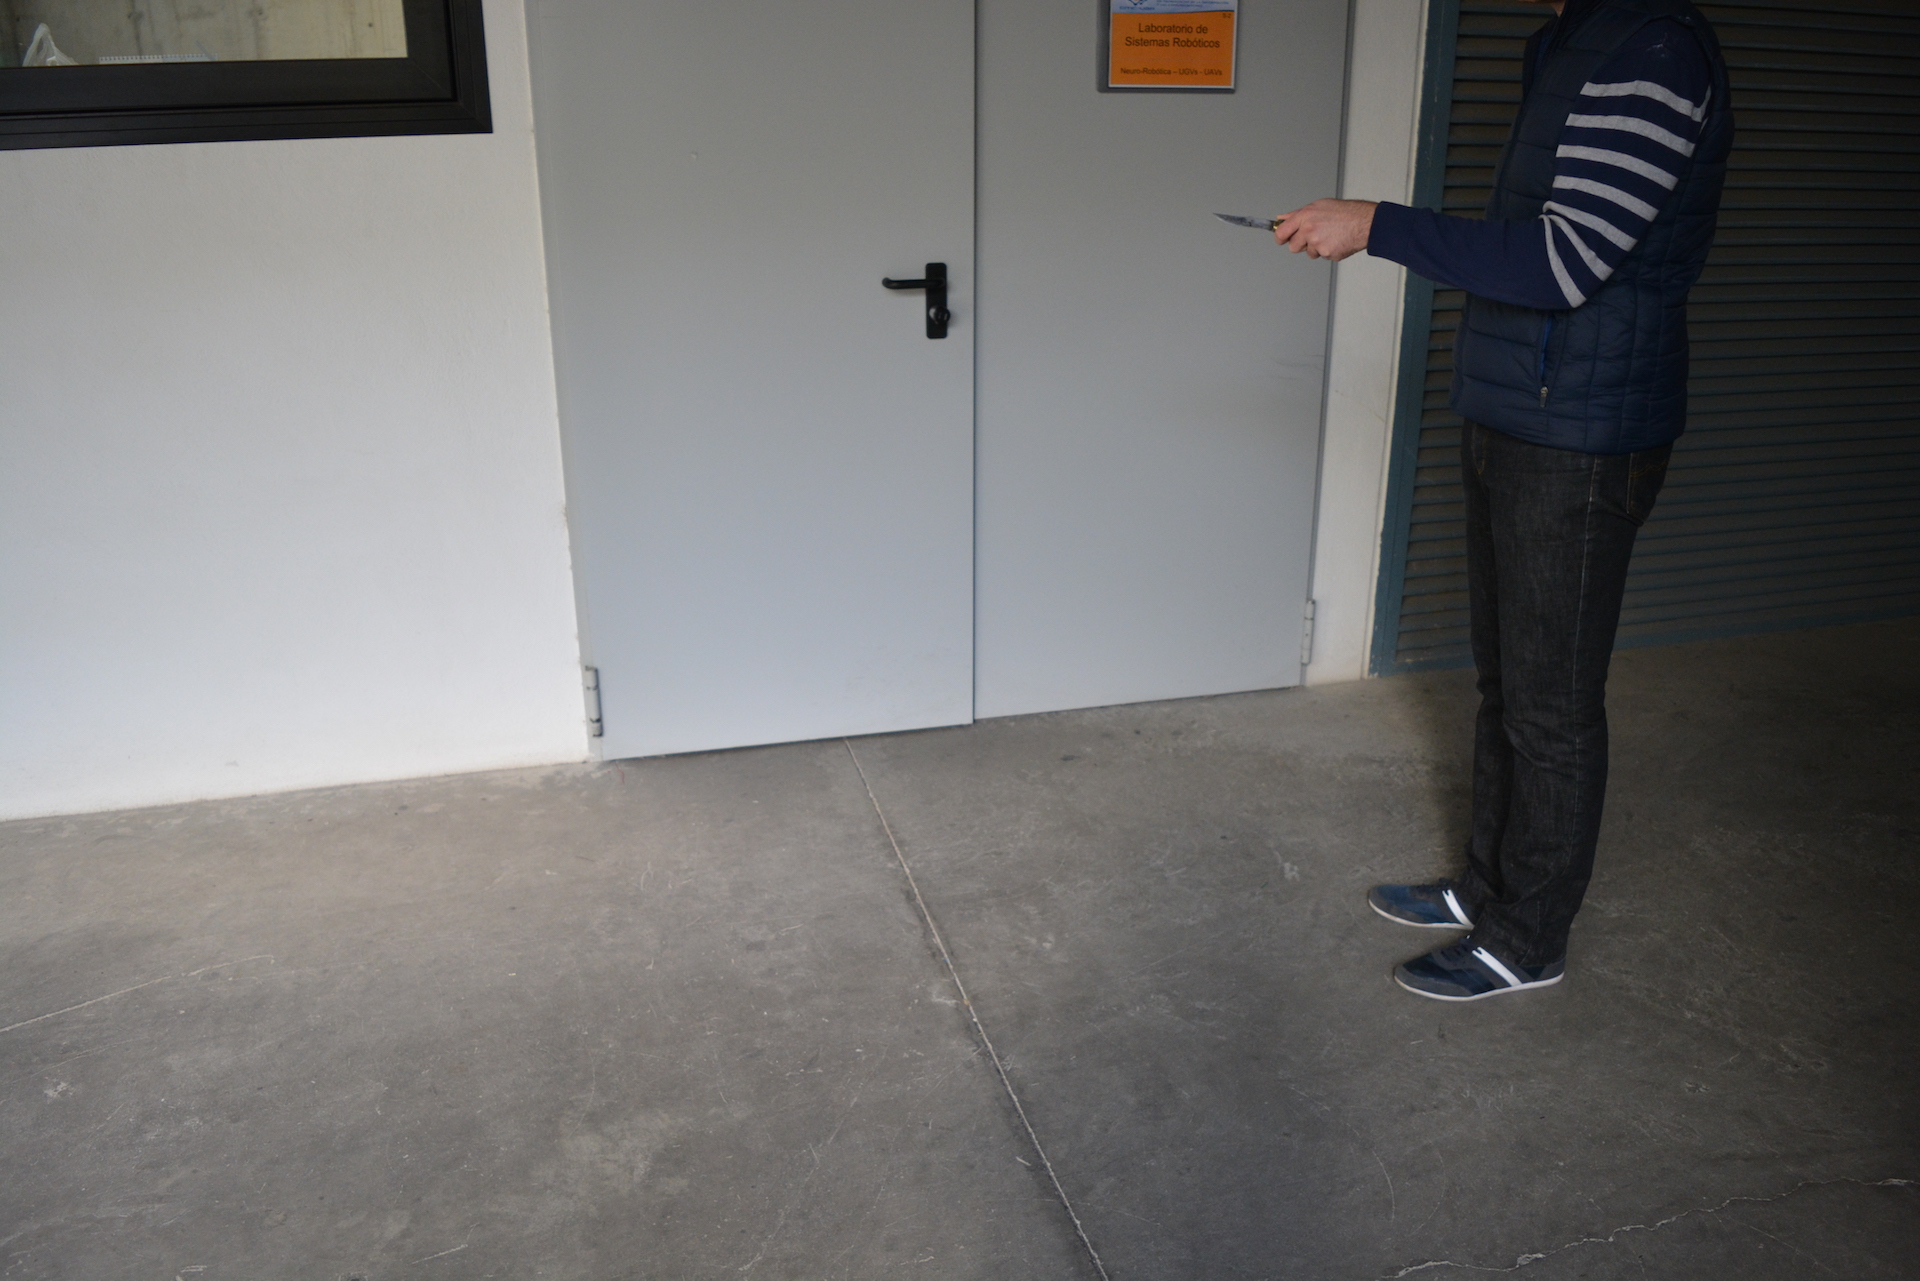knife: (1202, 203, 1300, 242)
